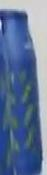cylinder: (1, 1, 47, 175)
